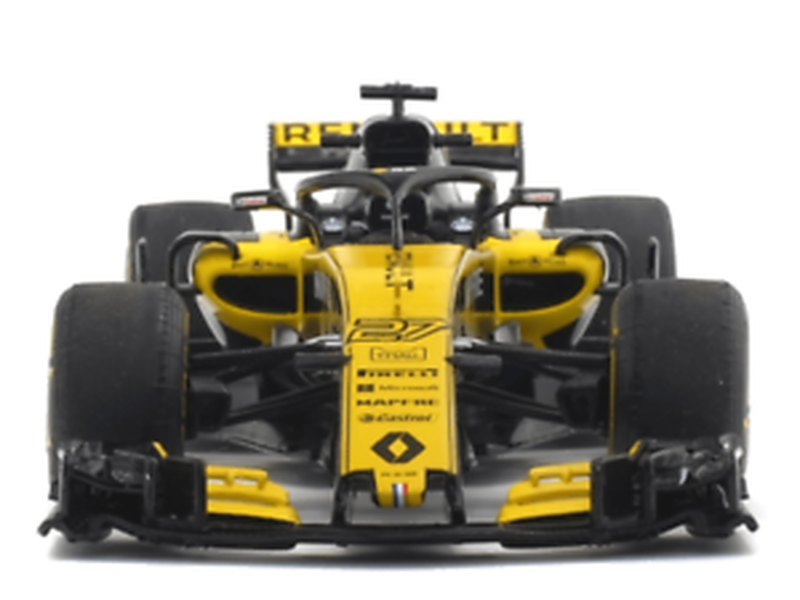f1: (51, 62, 760, 568)
